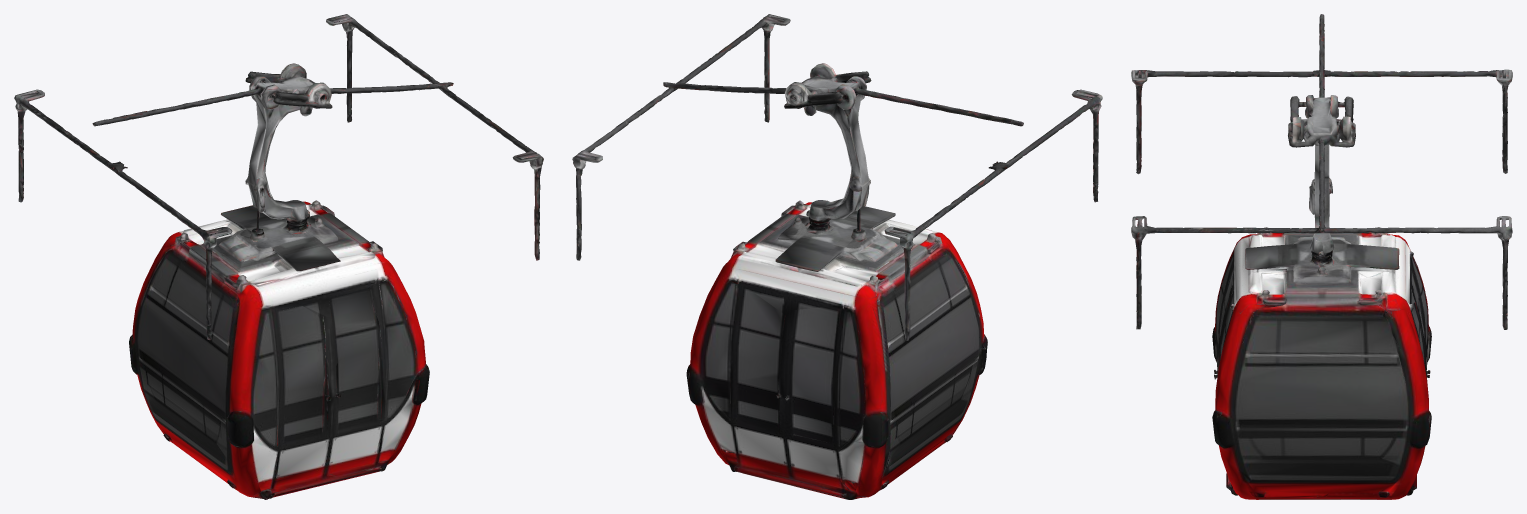
The model's file is city_ordu_cable_car.glb.
3 views of the same model, side by side, from view 1: azimuth 30°, elevation 25°; view 2: azimuth 150°, elevation 25°; view 3: azimuth 270°, elevation 25° (orthographic). The views are drawn at different scales.
Visible parts, largest first — view 1: Mesh1.0; view 2: Mesh1.0; view 3: Mesh1.0.
Boxes of the visible parts, bbox=[...] form: Mesh1.0: bbox=[14, 14, 543, 499]; Mesh1.0: bbox=[572, 14, 1102, 499]; Mesh1.0: bbox=[1131, 14, 1512, 499].
Bounding box in the file's own units: 2.4 × 2.4 × 2.26.
Materials: 1 (1 with a texture image).
